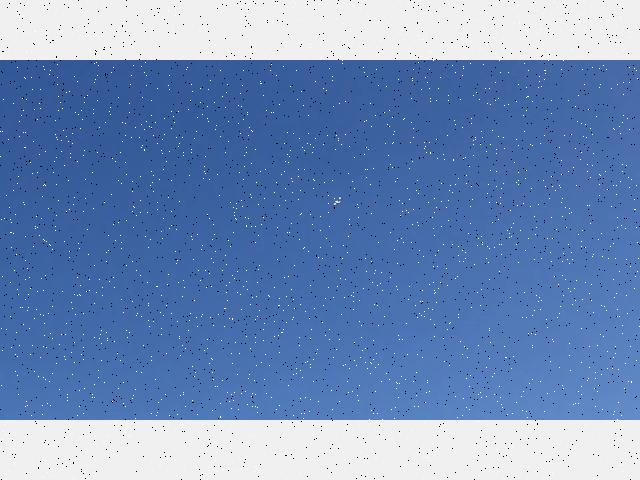Anti-Drone: (318, 193, 356, 211)
